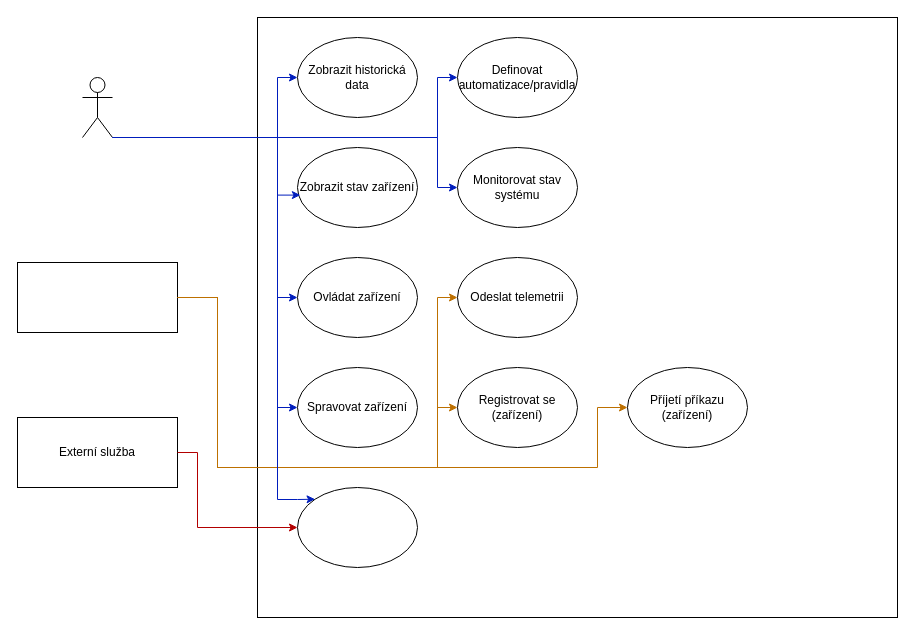
Image size: 915x635. Some labels were removed from this diagram. Here are the shapes that lost their labels. From the top down, the centre of each, then its label:
At [97,107]: "Admin".
At [97,297]: "IoT zařízení".
At [357,527]: "Uložení dat".
